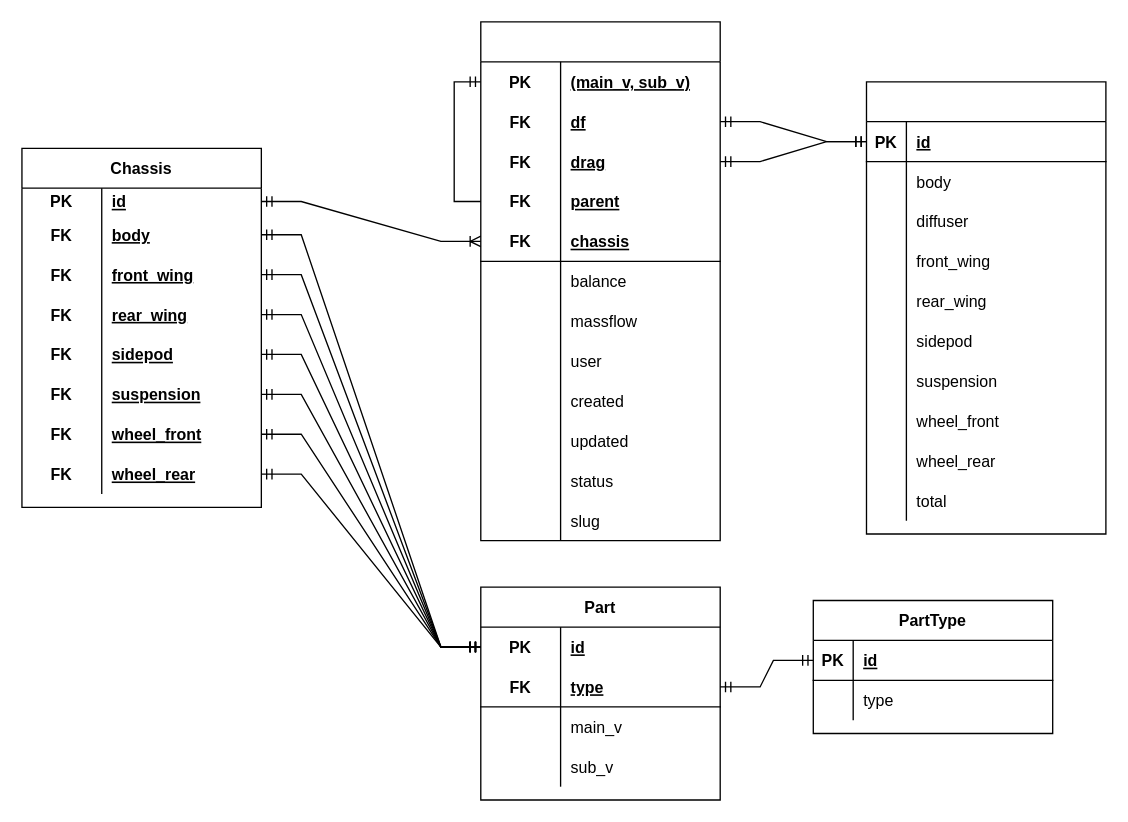
Some shapes in this 1128 by 822 pixel diagram are drawn without their labels. The box of each missing label's shape, as (x1, y1, x2, y2) in pixels:
Force: (865, 80, 1106, 534)
Simulation: (479, 21, 720, 541)
